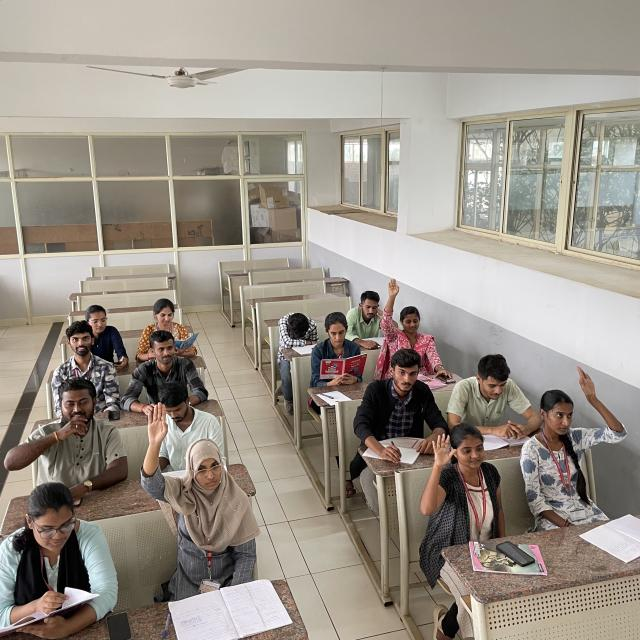Hand Rising: (124, 398, 272, 592), (522, 347, 628, 496), (407, 420, 510, 531), (374, 278, 442, 363)
Reading: (1, 482, 110, 637), (440, 352, 534, 451), (115, 288, 203, 361), (311, 307, 366, 390)
Sleeping: (266, 298, 325, 376)
Writing: (360, 346, 435, 468)
